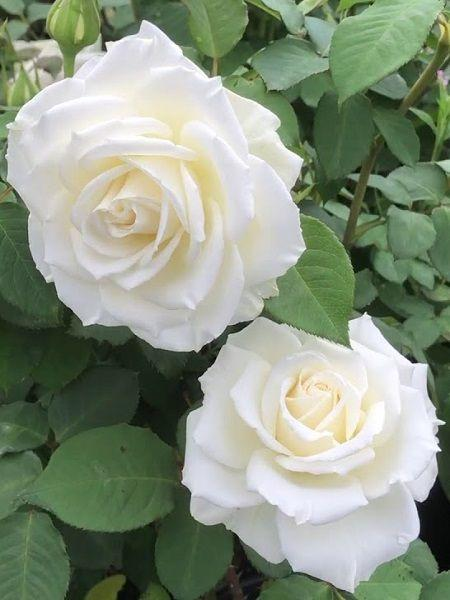Rose: (5, 39, 309, 330), (183, 295, 442, 600)
